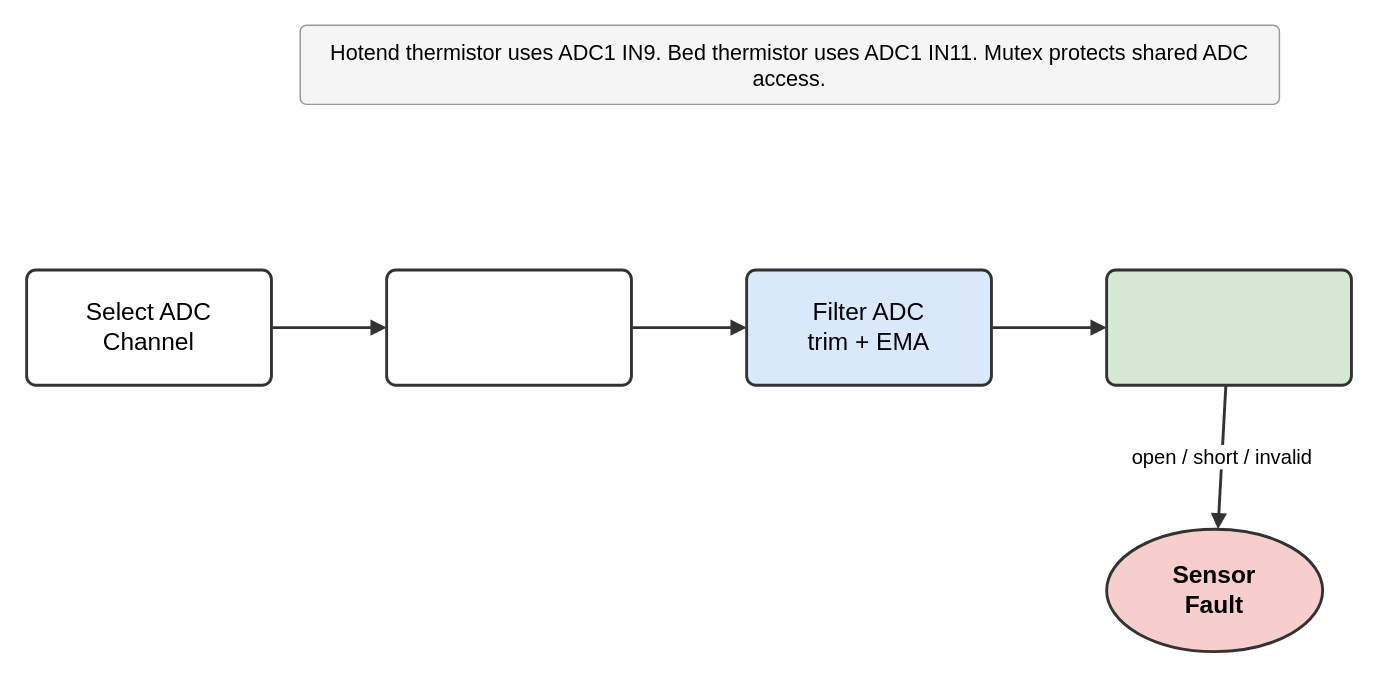
Image size: 1377x678. Some labels were removed from this diagram. Here are the shapes that lost their labels. From the top down, the centre of each, then its label:
At (508,327): "Sample ADC 16 reads".
At (1228,327): "Convert To Temperature".
